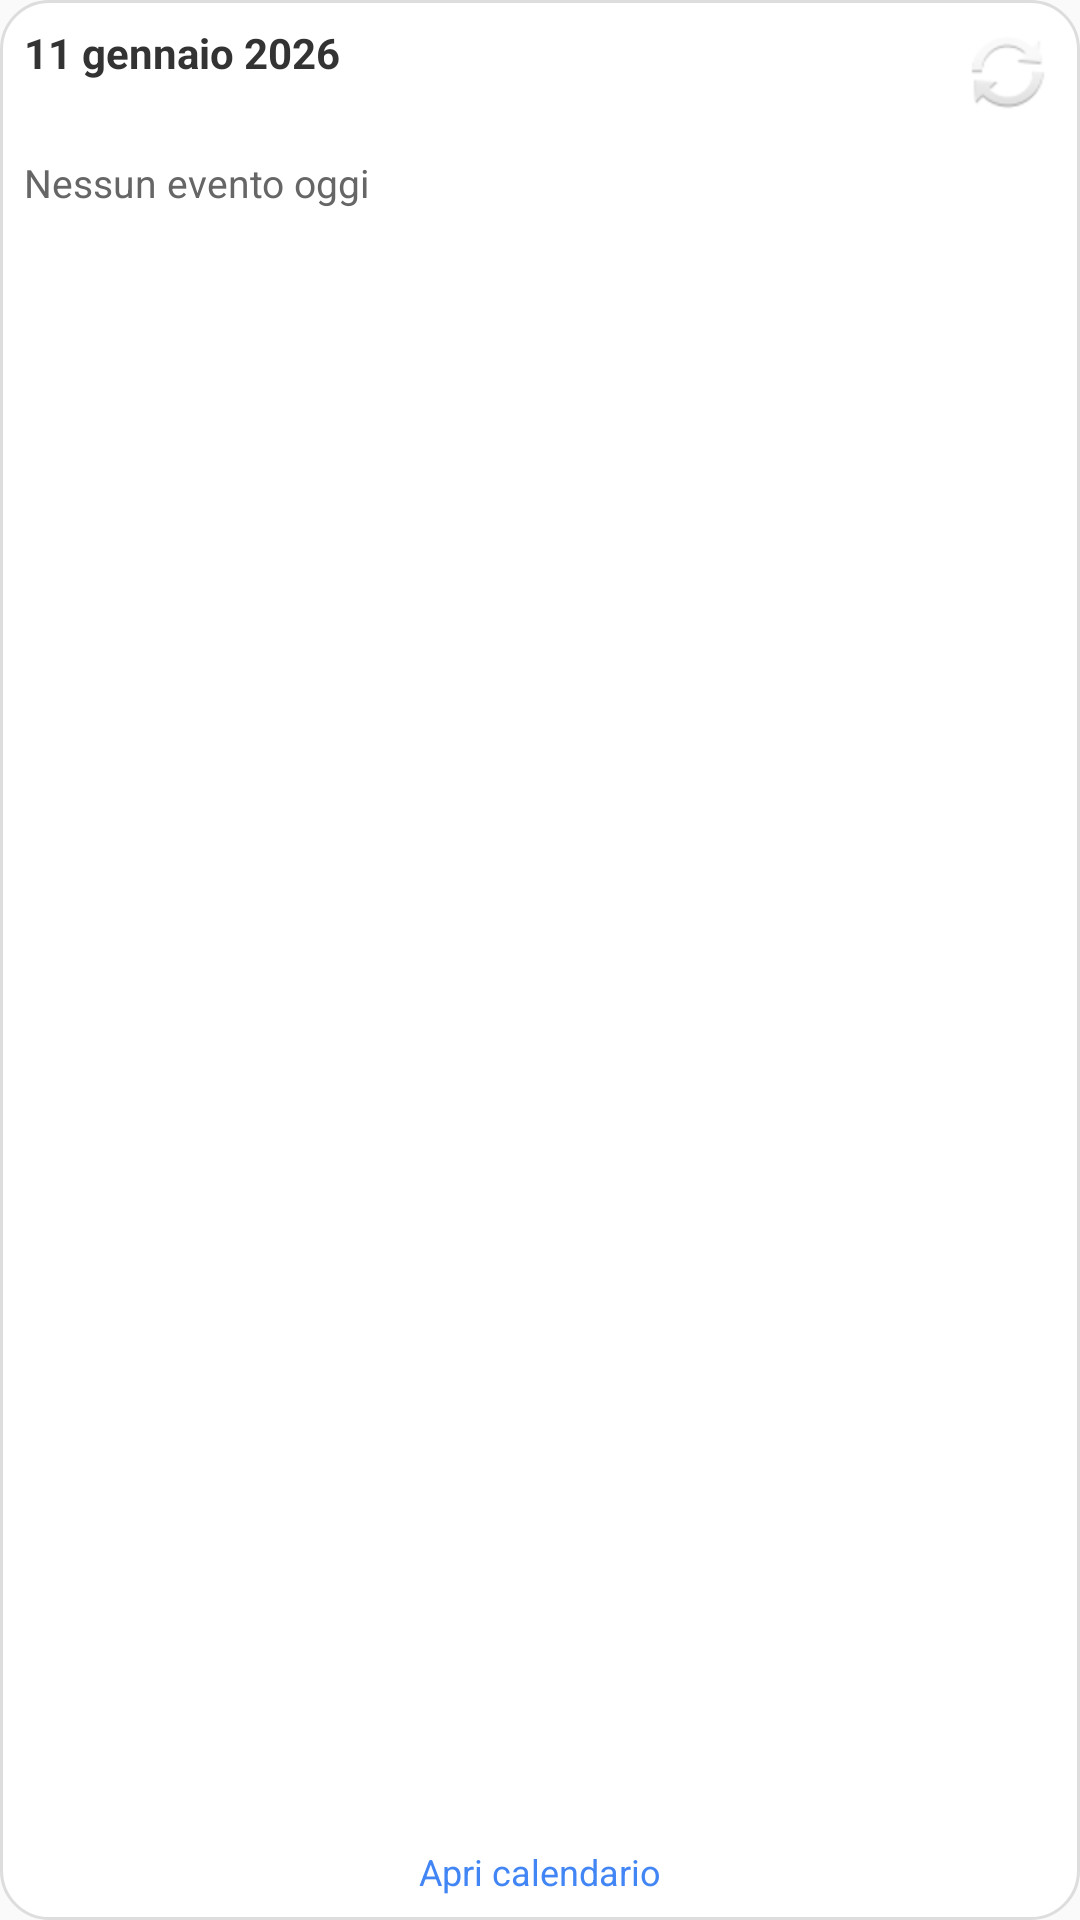

Locate icon controls on the screen. Image size 1080px×1920px, boxes as (x1, y1, x2, y2).
Aggiorna: (972, 44, 1043, 108)
